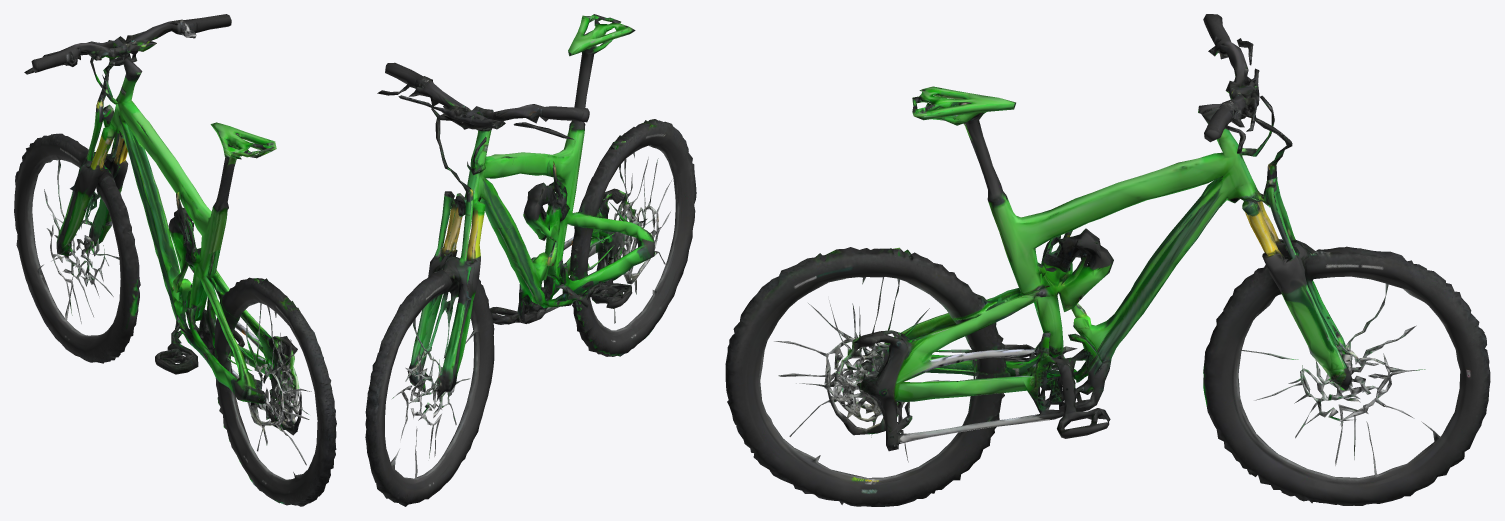
File: Green_Mountain_Bike_0421170445_texture.glb
3 renders of one model, left to right at view 1: azimuth 30°, elevation 25°; view 2: azimuth 150°, elevation 25°; view 3: azimuth 270°, elevation 25°, orthographic. The views are drawn at different scales.
Size of the model in its own units: 0.72 by 1.25 by 2.
1 material, 1 textured.
